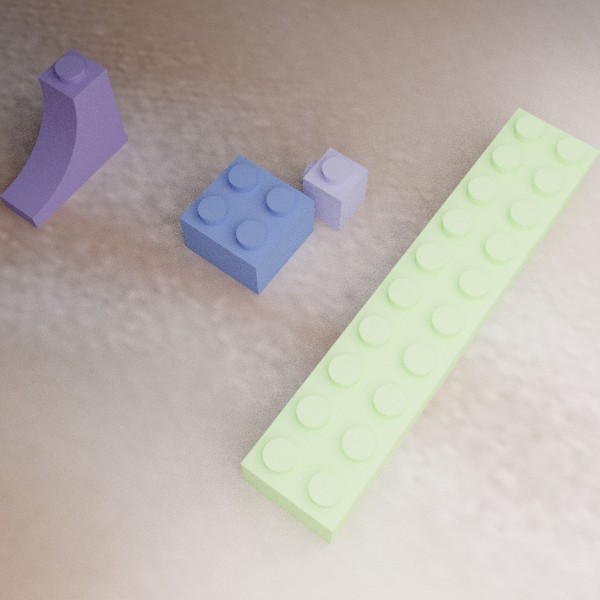lego: (240, 107, 600, 544), (0, 48, 128, 228), (179, 154, 314, 295), (300, 147, 368, 231)
